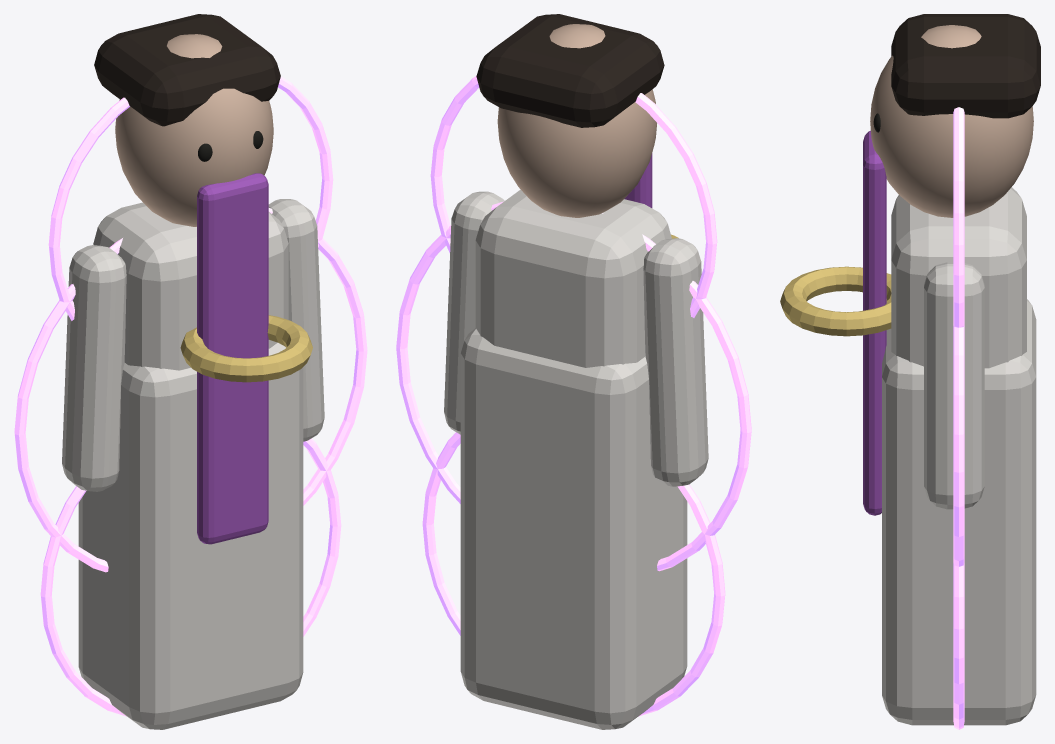
File: vivian_4181.glb
3 renders of one model, left to right at view 1: azimuth 30°, elevation 25°; view 2: azimuth 150°, elevation 25°; view 3: azimuth 270°, elevation 25°, orthographic.
Visible parts, largest first — view 1: Layered robe, Purple healer stole, Head, Fitted torso, Detailed arm, Hair, Shimmering protective aura.001, Detailed arm.001, Shimmering protective aura, Shimmering protective aura.002, Life holy symbol; view 2: Layered robe, Fitted torso, Hair, Head, Detailed arm, Shimmering protective aura.001, Detailed arm.001, Shimmering protective aura, Shimmering protective aura.002, Purple healer stole; view 3: Layered robe, Fitted torso, Head, Hair, Detailed arm.001, Purple healer stole, Life holy symbol, Shimmering protective aura.001, Shimmering protective aura.002, Shimmering protective aura.
Boxes of the visible parts, x1,y1,x2,y2 form: Layered robe: (78, 343, 303, 729); Purple healer stole: (197, 173, 268, 544); Head: (115, 34, 273, 226); Fitted torso: (93, 202, 288, 370); Detailed arm: (62, 245, 126, 491); Hair: (94, 14, 280, 126); Shimmering protective aura.001: (14, 208, 367, 572); Detailed arm.001: (268, 199, 324, 441); Shimmering protective aura: (40, 438, 341, 716); Shimmering protective aura.002: (48, 76, 333, 320); Life holy symbol: (180, 315, 312, 382); Layered robe: (460, 328, 687, 729); Fitted torso: (475, 189, 671, 367); Hair: (476, 14, 664, 127); Head: (497, 24, 656, 217); Detailed arm: (643, 238, 708, 486); Shimmering protective aura.001: (396, 201, 751, 571); Detailed arm.001: (444, 191, 504, 434); Shimmering protective aura: (422, 432, 725, 716); Shimmering protective aura.002: (430, 76, 717, 317); Purple healer stole: (624, 153, 652, 207); Layered robe: (882, 299, 1036, 725); Fitted torso: (891, 187, 1026, 368); Head: (870, 25, 1033, 217); Hair: (891, 14, 1040, 118); Detailed arm.001: (924, 262, 984, 509); Purple healer stole: (863, 130, 886, 515); Life holy symbol: (780, 266, 891, 336); Shimmering protective aura.001: (953, 325, 964, 566); Shimmering protective aura.002: (953, 107, 964, 327); Shimmering protective aura: (953, 563, 964, 729).
Bounding box in the file's own units: 1.75 × 3.22 × 1.12.
